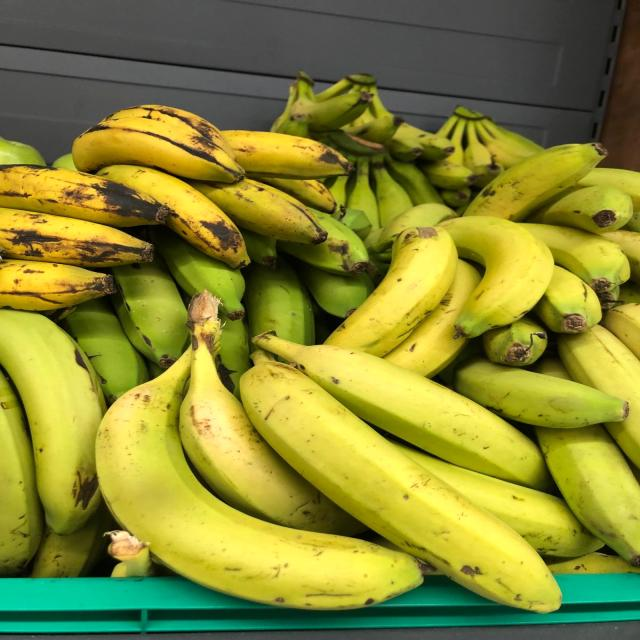banana: (89, 286, 571, 613), (233, 336, 588, 614)
